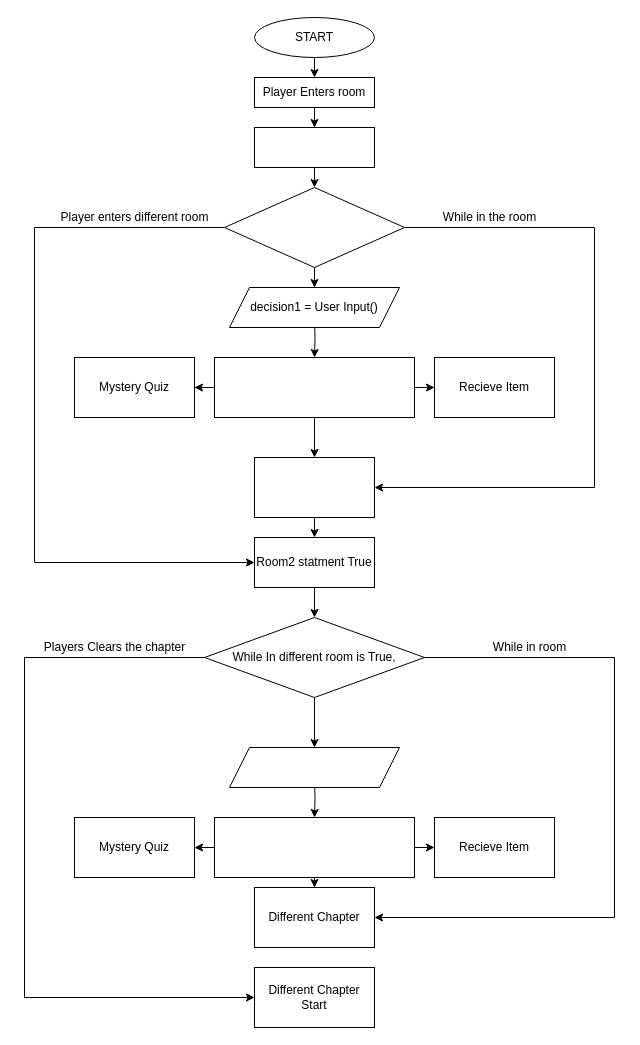
This 640x1045 diagram has some shape labels left out. Here are the shapes that lost their labels. From the top down, the centre of each, then its label:
point 314,147: In room statement becomes True
point 314,227: While In room is True,
point 314,387: If "(Certain inputs)" in decision1
point 314,487: Enter Different room
point 314,767: decision2 = User Input()
point 314,847: If "(Certain inputs)" in decision2
